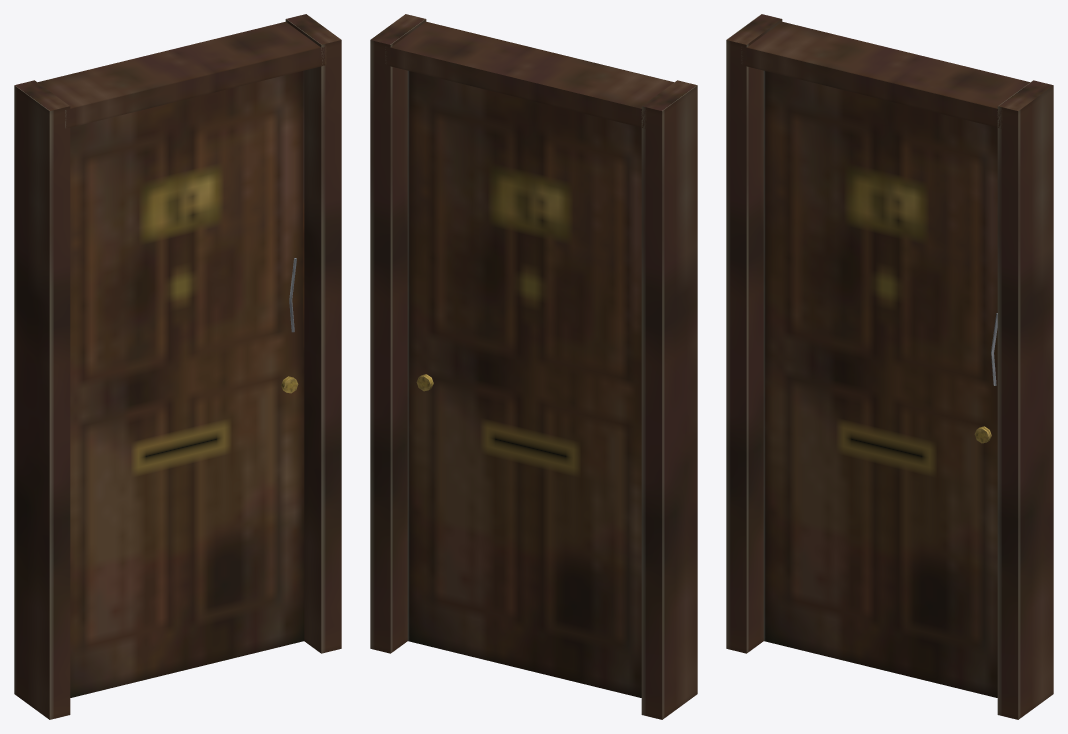
The model's file is door_flat.fbx.
The picture shows the model from 3 angles, left to right: view 1: azimuth 30°, elevation 25°; view 2: azimuth 150°, elevation 25°; view 3: azimuth 330°, elevation 25°; orthographic projection.
Parts seen in each view (by area): view 1: door_flat_leaf, door_flat, door_flat_casing_r, door_flat_casing_top; view 2: door_flat_leaf, door_flat, door_flat_casing_r, door_flat_casing_top; view 3: door_flat_leaf, door_flat_casing_r, door_flat, door_flat_casing_top.
Part boxes in pixels (x1,y1,x2,y2): door_flat_leaf: (70, 70, 304, 697); door_flat: (14, 80, 70, 719); door_flat_casing_r: (285, 14, 341, 653); door_flat_casing_top: (38, 21, 326, 128); door_flat_leaf: (407, 70, 641, 697); door_flat: (641, 80, 697, 719); door_flat_casing_r: (370, 14, 426, 653); door_flat_casing_top: (385, 21, 673, 128); door_flat_leaf: (763, 70, 997, 697); door_flat_casing_r: (997, 80, 1053, 719); door_flat: (726, 14, 782, 653); door_flat_casing_top: (741, 21, 1029, 128).
Bounding box in the file's own units: 1.14 × 2.27 × 0.24.
1 material, 1 textured.
